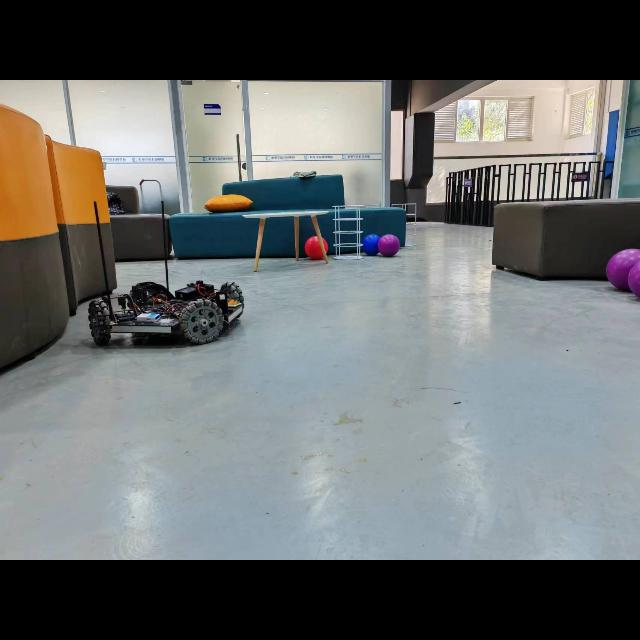B: (362, 234, 380, 255)
P: (606, 249, 640, 290), (378, 234, 400, 257), (628, 261, 640, 298), (635, 291, 640, 298)
R: (304, 235, 328, 261)
S: (334, 205, 362, 260)
